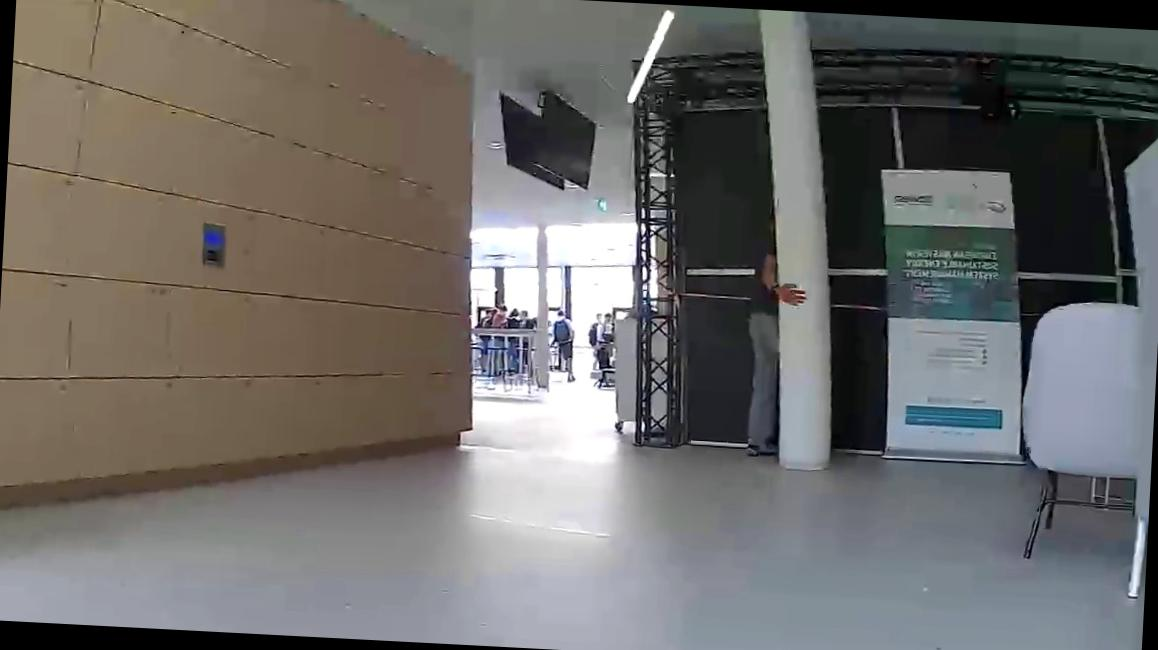korban: (738, 237, 810, 462)
